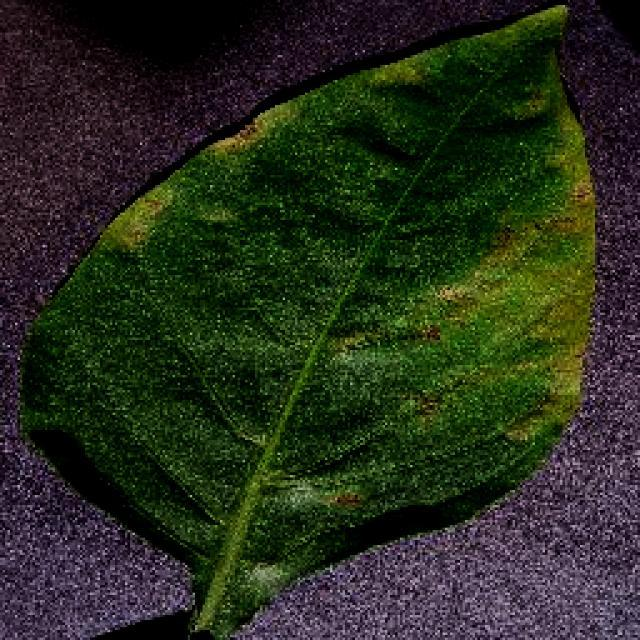Bercak Daun Serkospora: (20, 0, 600, 638)
